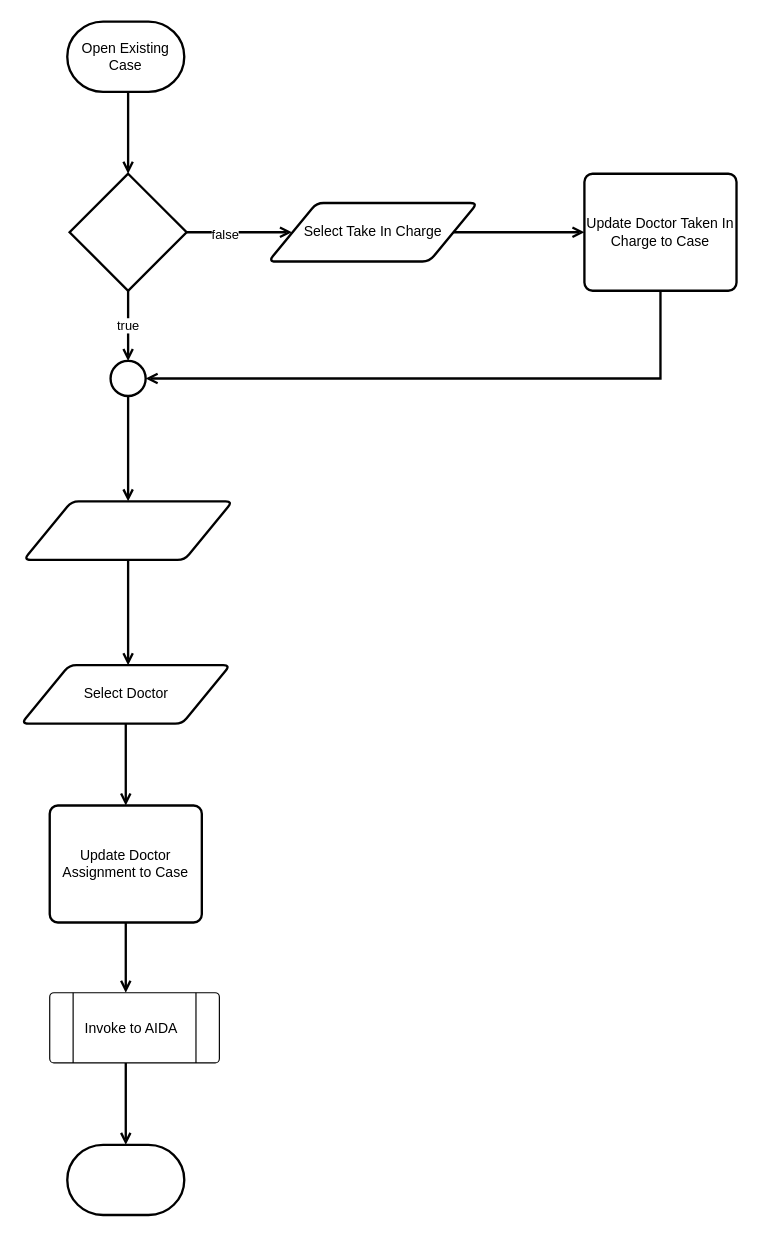
This 758x1236 diagram has some shape labels left out. The centre of each missing label's shape, as x and y in pixels:
"Finish" belongs at (125,1179).
"Is Taken In Charge" belongs at (127,231).
"Select Assign to" belongs at (127,530).
